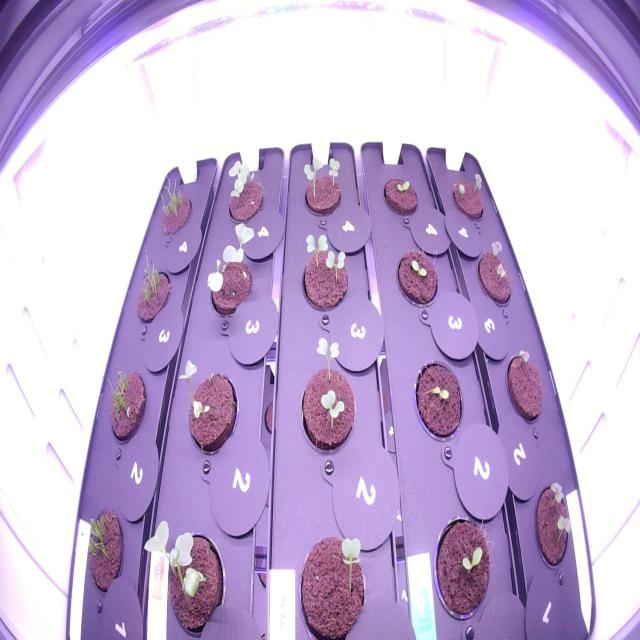germination: (287, 325, 361, 463), (173, 345, 246, 482), (291, 521, 374, 638), (425, 507, 495, 630), (200, 213, 262, 329), (405, 349, 468, 449), (528, 466, 580, 581), (290, 224, 354, 317), (217, 146, 276, 240), (79, 499, 130, 603), (100, 357, 152, 457), (126, 240, 175, 338), (500, 338, 548, 431), (294, 149, 348, 226), (471, 228, 517, 317), (391, 240, 444, 312), (152, 168, 198, 248), (378, 163, 422, 229), (448, 161, 486, 226)
